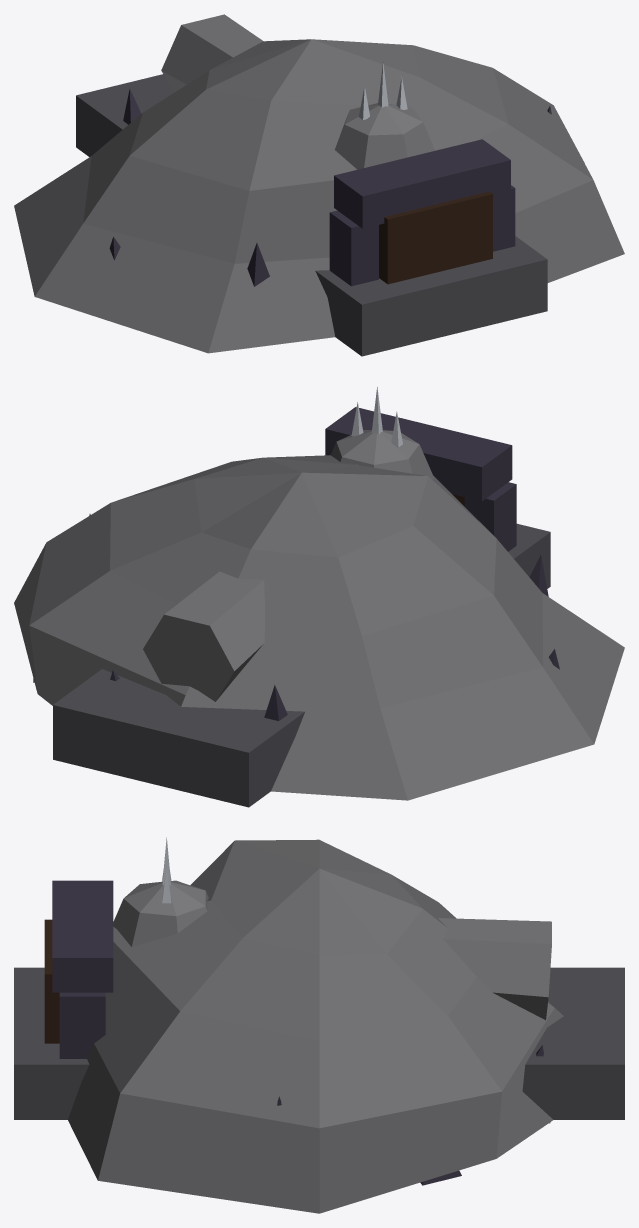
The model's file is Env_Landmarks.obj.
3 views of the same model, one above another, from view 1: azimuth 30°, elevation 25°; view 2: azimuth 150°, elevation 25°; view 3: azimuth 270°, elevation 25° (orthographic). The views are drawn at different scales.
Visible parts, largest first — view 1: Env_Landmark_HideoutMound, Env_Landmark_FallenKing, Env_Landmark_RiftPit; view 2: Env_Landmark_HideoutMound, Env_Landmark_FallenKing, Env_Landmark_RiftPit; view 3: Env_Landmark_HideoutMound, Env_Landmark_FallenKing.
Boxes of the visible parts, left/top/right/bottom form: Env_Landmark_HideoutMound: left=14, top=39, right=624, bottom=353; Env_Landmark_FallenKing: left=76, top=14, right=547, bottom=356; Env_Landmark_RiftPit: left=109, top=88, right=551, bottom=286; Env_Landmark_HideoutMound: left=14, top=407, right=624, bottom=800; Env_Landmark_FallenKing: left=53, top=387, right=550, bottom=807; Env_Landmark_RiftPit: left=33, top=514, right=559, bottom=720; Env_Landmark_HideoutMound: left=44, top=839, right=563, bottom=1213; Env_Landmark_FallenKing: left=14, top=837, right=624, bottom=1119.
Bounding box in the file's own units: 8.88 × 3.49 × 8.
